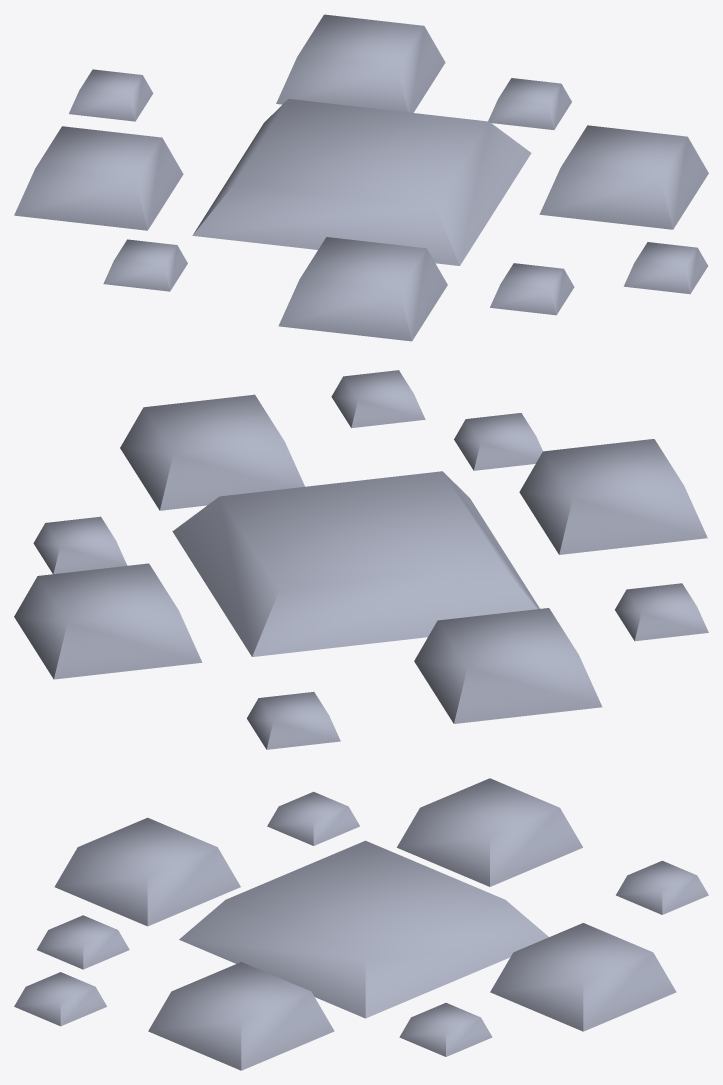
File: stones.obj
3 renders of one model, top to bottom at view 1: azimuth 30°, elevation 25°; view 2: azimuth 150°, elevation 25°; view 3: azimuth 270°, elevation 25°, orthographic. The views are drawn at different scales.
Parts seen in each view (by area): view 1: stones; view 2: stones; view 3: stones.
Boxes of the visible parts, x1=… form: stones: x1=14, y1=14, x2=708, y2=341; stones: x1=14, y1=370, x2=708, y2=749; stones: x1=14, y1=778, x2=708, y2=1070.
Size of the model in its own units: 0.7102 by 0.05 by 0.7897.
